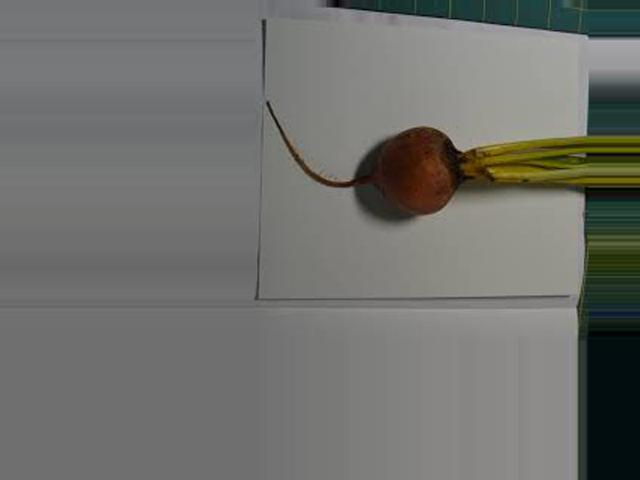beet: (265, 102, 586, 214)
